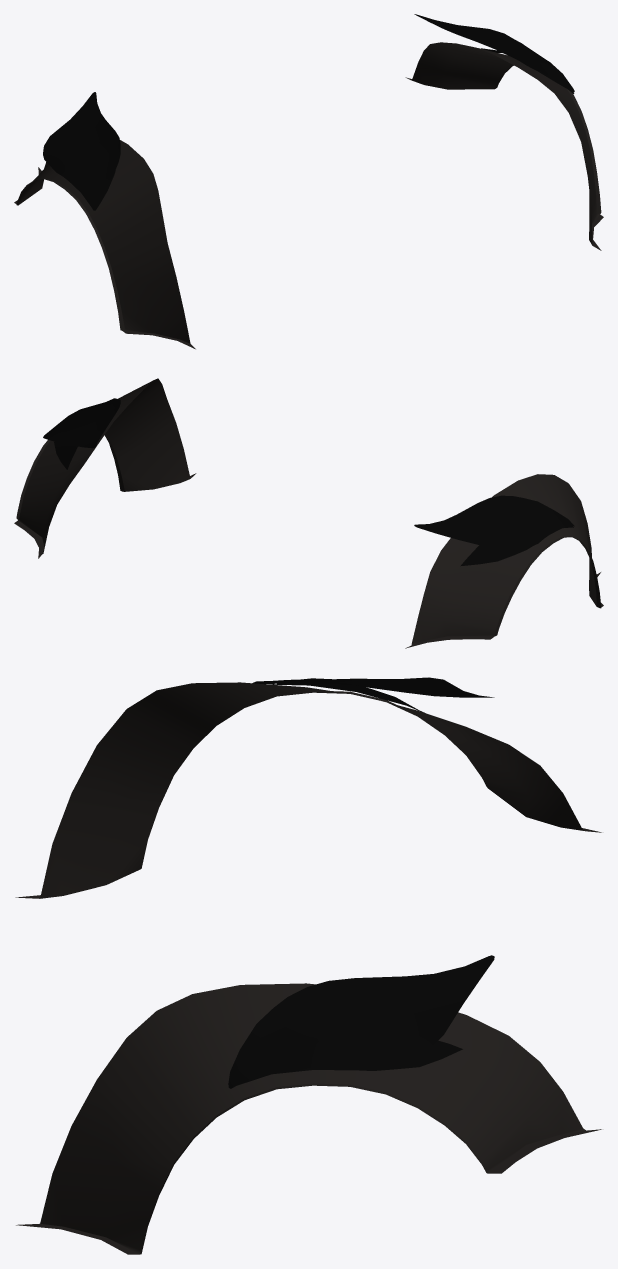
The model's file is RWB_RF_02_Trim.fbx.
3 views of the same model, one above another, from view 1: azimuth 30°, elevation 25°; view 2: azimuth 150°, elevation 25°; view 3: azimuth 270°, elevation 25° (orthographic). The views are drawn at different scales.
Visible parts, largest first — view 1: RWB_RF_02_Trim; view 2: RWB_RF_02_Trim; view 3: RWB_RF_02_Trim.
Boxes of the visible parts, <box> form: RWB_RF_02_Trim: <box>14,14,603,349</box>; RWB_RF_02_Trim: <box>14,378,603,648</box>; RWB_RF_02_Trim: <box>15,677,601,1254</box>.
Bounding box in the file's own units: 186 × 51.59 × 117.
